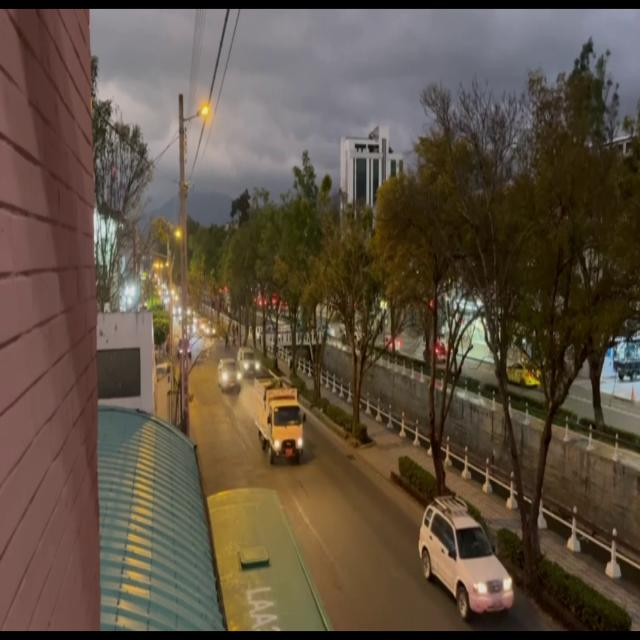SUV: (426, 506, 514, 616), (217, 361, 240, 394)
TRUCK: (254, 378, 302, 461)
